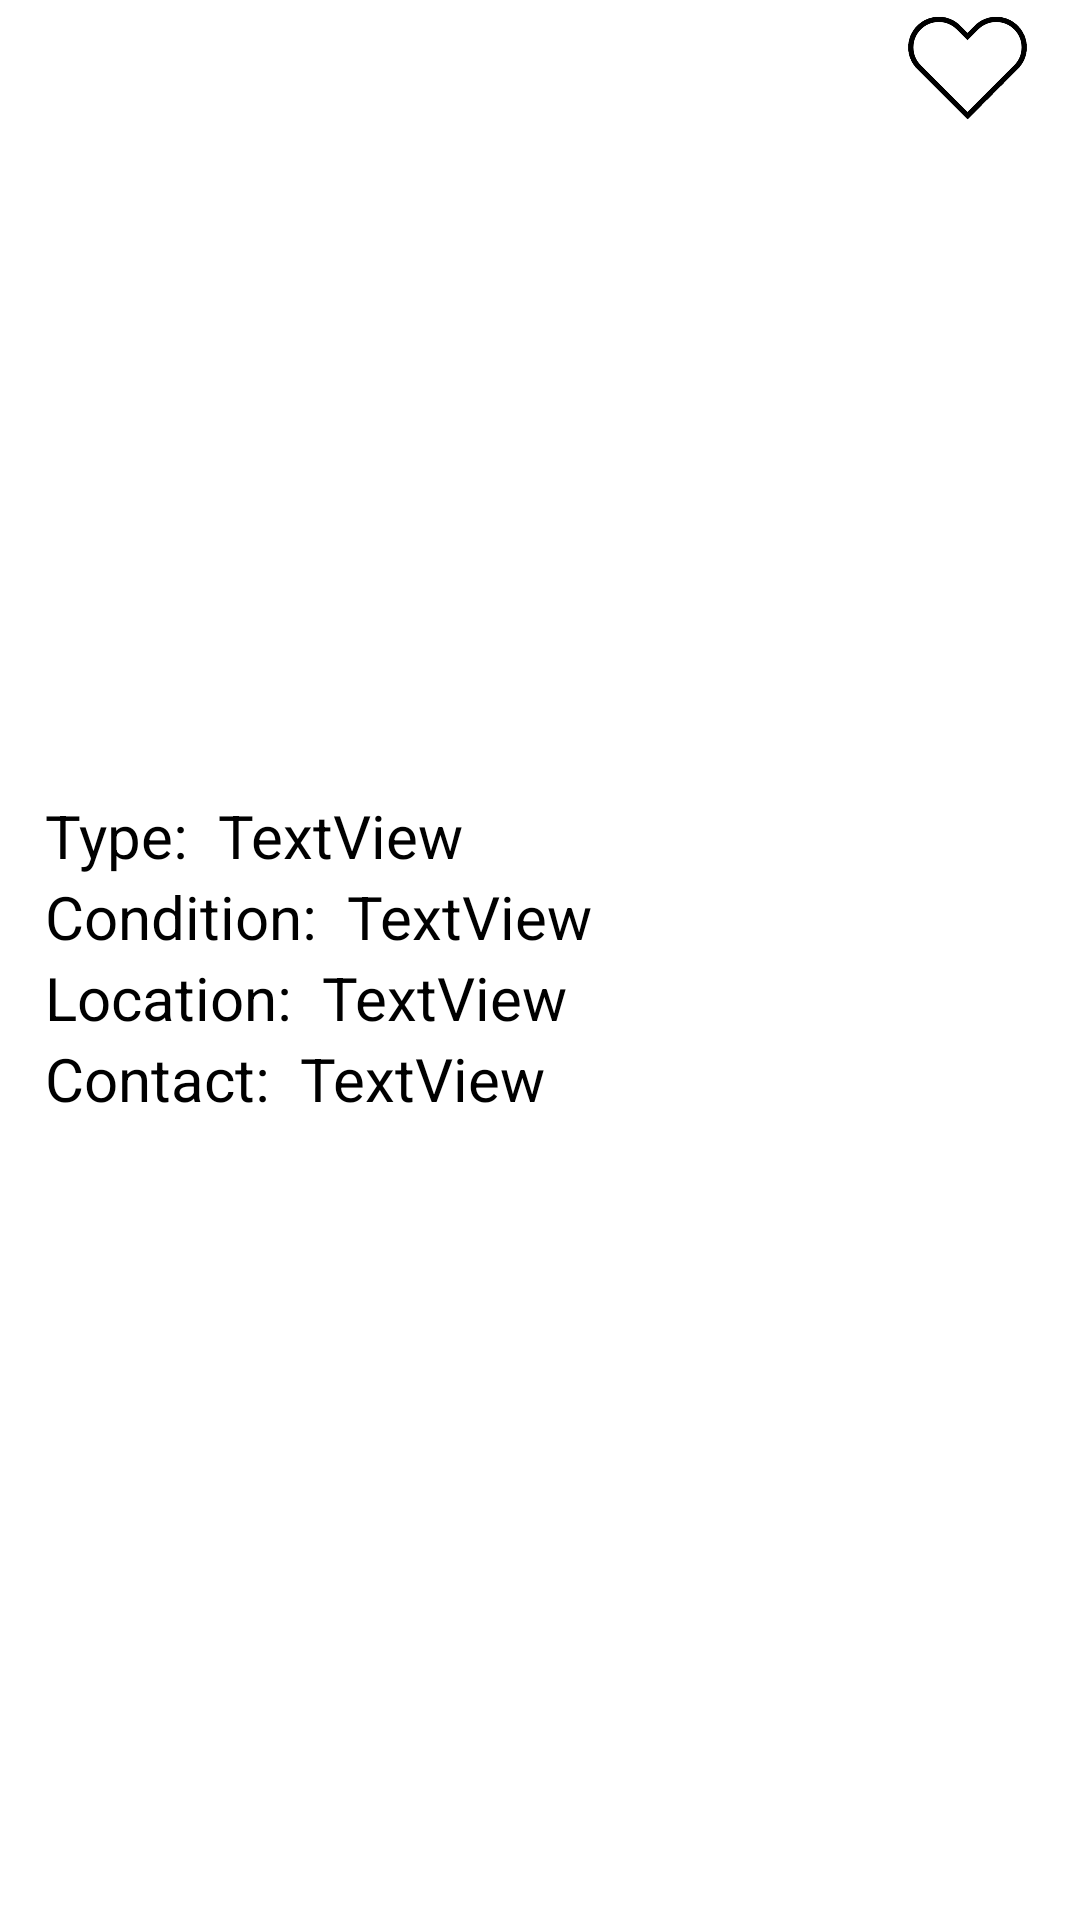

Screen size 1080 x 1920. Icon name, then its box in pixels as (x1=x1, y1=y1, x2=x2, y2=y2):
empty heart: (x1=908, y1=17, x2=1027, y2=119)
